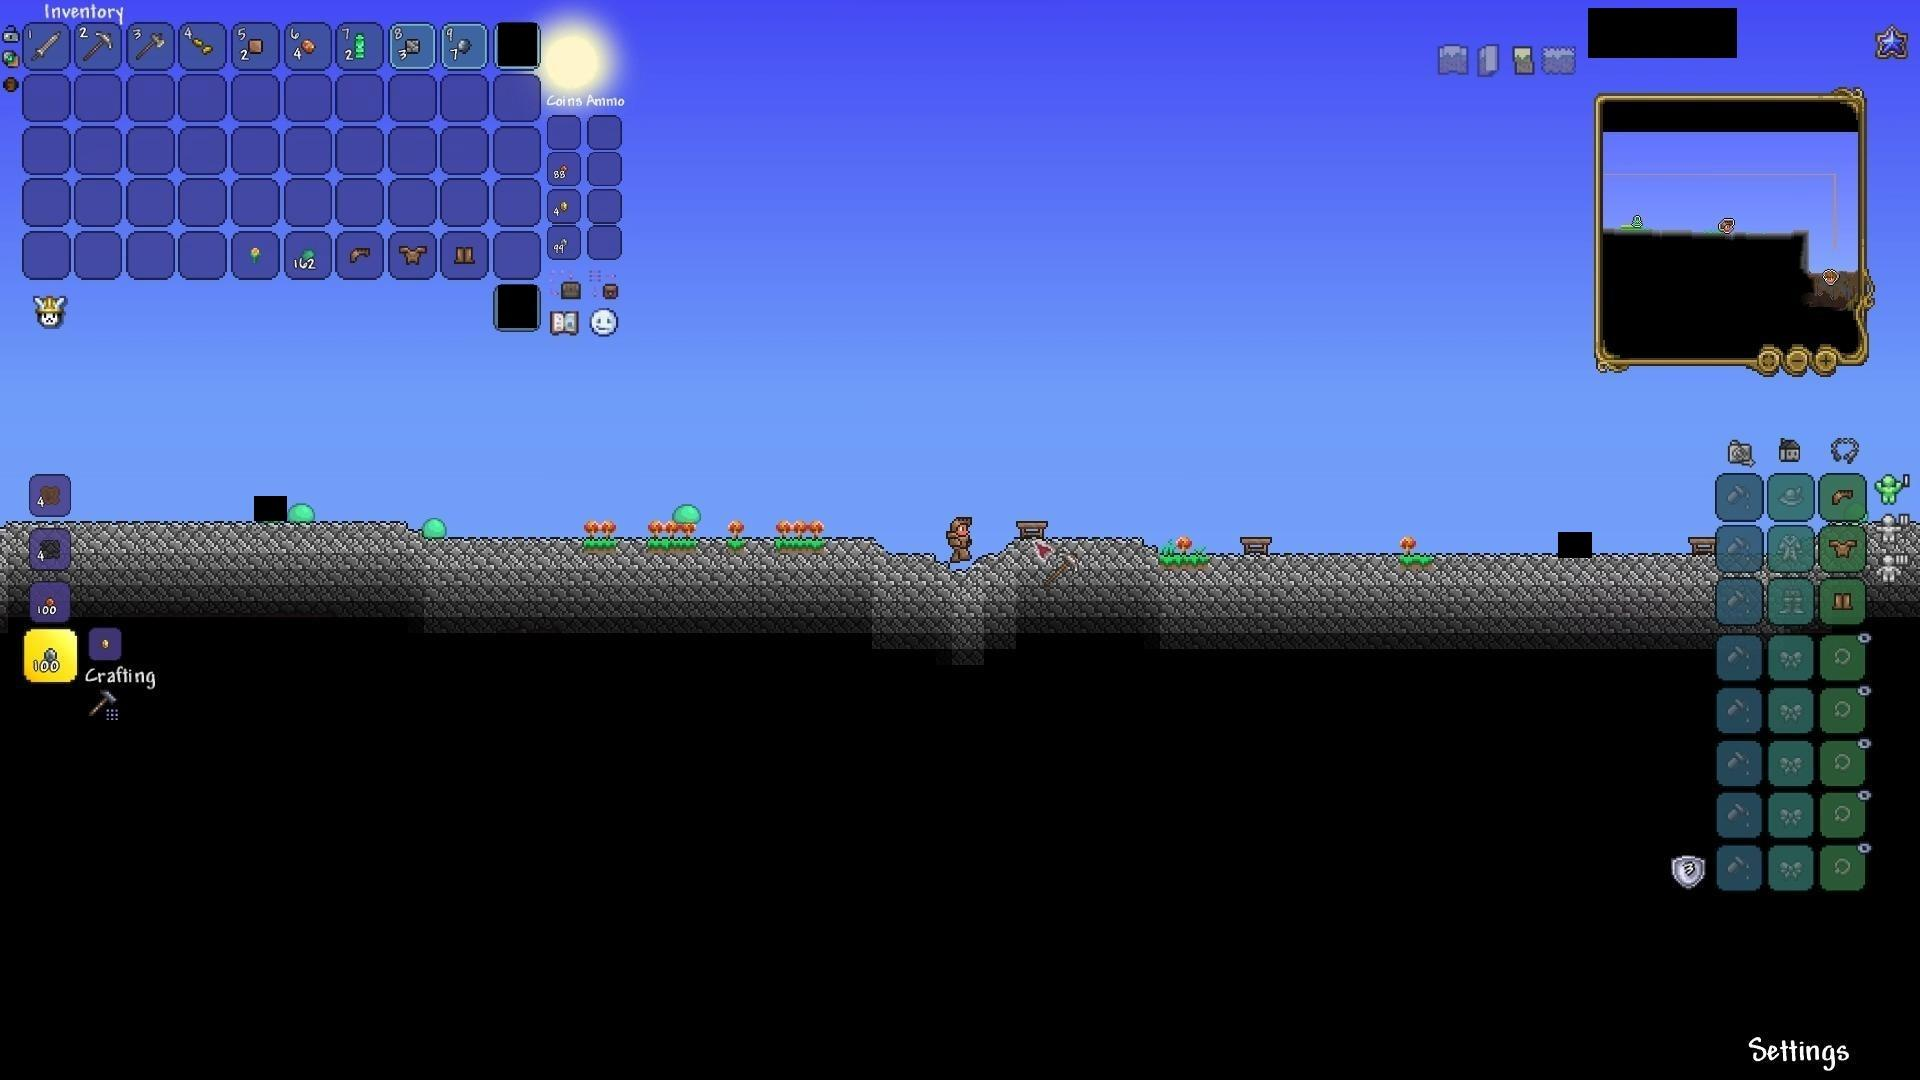breastplate: (397, 243, 429, 262), (1832, 537, 1859, 558)
dirt: (646, 538, 696, 555), (778, 534, 824, 553), (1162, 549, 1208, 567), (1398, 550, 1431, 567), (585, 535, 617, 553)
helmet: (345, 243, 375, 268), (1829, 484, 1857, 508)
legs: (1832, 588, 1857, 616), (452, 243, 477, 266)
slime: (671, 500, 702, 527), (290, 495, 320, 522), (418, 514, 448, 539)
workbench: (1014, 520, 1048, 545), (1240, 535, 1273, 559), (1685, 533, 1718, 555)
